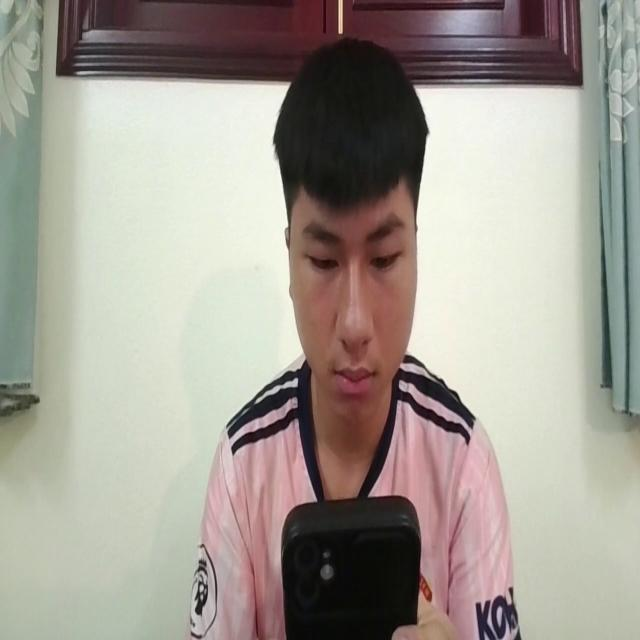phone: (278, 485, 422, 640)
student: (188, 34, 519, 640)
